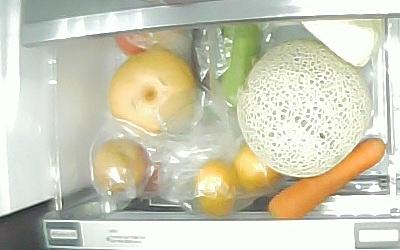cabbage: (299, 17, 384, 67)
carrot: (266, 136, 387, 220)
eggplant_vinyl: (191, 25, 224, 94)
melon: (237, 40, 374, 178)
pear: (106, 48, 197, 137)
prune_vinyl: (90, 137, 151, 203)
tangerine_vinyl: (195, 159, 239, 219), (235, 146, 285, 193)
zucchini_vinyl: (221, 24, 261, 119)
